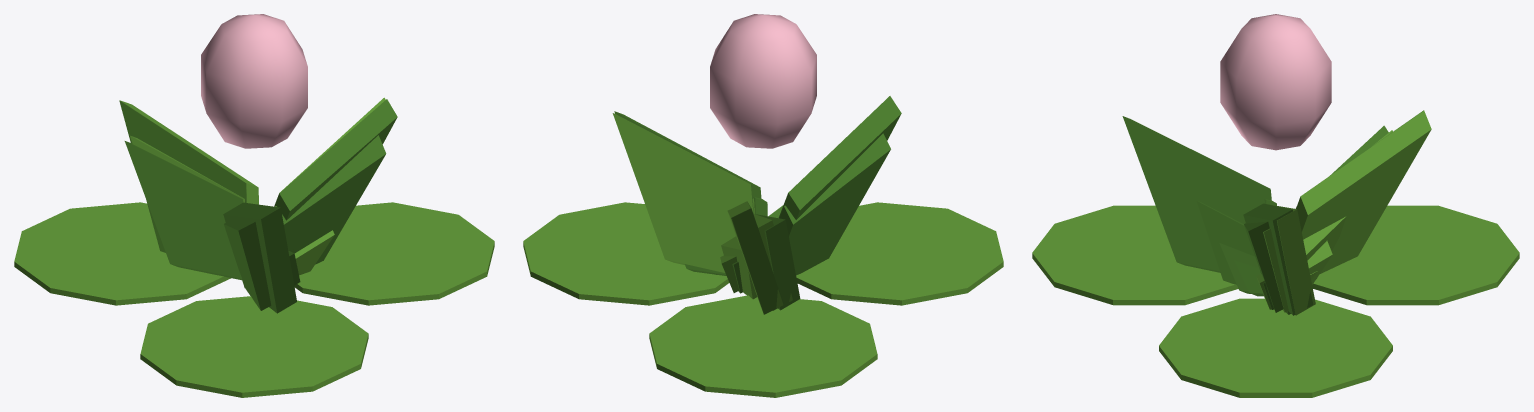
File: Crop_Veg_LotusRoot.fbx
3 renders of one model, left to right at view 1: azimuth 30°, elevation 25°; view 2: azimuth 150°, elevation 25°; view 3: azimuth 270°, elevation 25°, orthographic.
Parts seen in each view (by area): view 1: Crop_Veg_LotusRoot__S3, Crop_Veg_LotusRoot__S4, Crop_Veg_LotusRoot__S5; view 2: Crop_Veg_LotusRoot__S3, Crop_Veg_LotusRoot__S4, Crop_Veg_LotusRoot__S2, Crop_Veg_LotusRoot__S5; view 3: Crop_Veg_LotusRoot__S3, Crop_Veg_LotusRoot__S4, Crop_Veg_LotusRoot__S2, Crop_Veg_LotusRoot__S5, Crop_Veg_LotusRoot__S1.
Part boxes in pixels (x1,y1,x2,y2): Crop_Veg_LotusRoot__S3: (14, 135, 494, 397); Crop_Veg_LotusRoot__S4: (119, 14, 397, 313); Crop_Veg_LotusRoot__S5: (288, 230, 334, 285); Crop_Veg_LotusRoot__S3: (523, 133, 1003, 397); Crop_Veg_LotusRoot__S4: (612, 14, 901, 314); Crop_Veg_LotusRoot__S2: (684, 205, 783, 299); Crop_Veg_LotusRoot__S5: (720, 255, 742, 293); Crop_Veg_LotusRoot__S3: (1032, 125, 1519, 397); Crop_Veg_LotusRoot__S4: (1122, 14, 1431, 315); Crop_Veg_LotusRoot__S2: (1196, 201, 1346, 314); Crop_Veg_LotusRoot__S5: (1219, 240, 1332, 309); Crop_Veg_LotusRoot__S1: (1234, 260, 1317, 296).
Size of the model in its own units: 0.1511 by 0.1031 by 0.1666.
